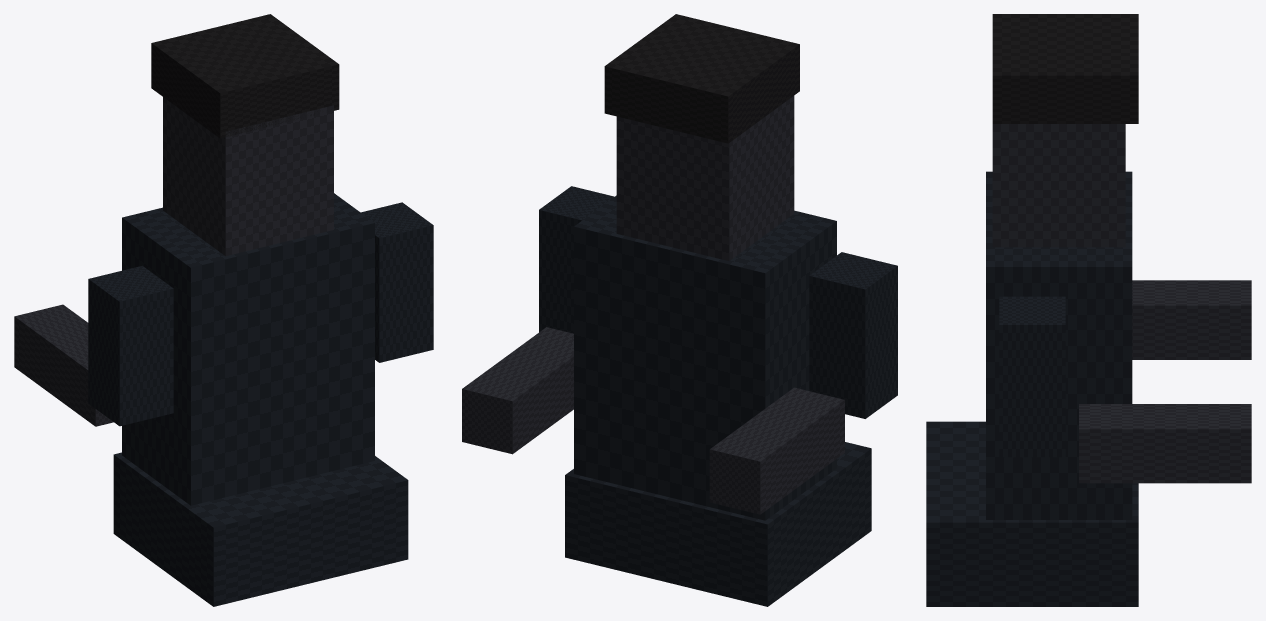
The model's file is worker_seated_b.glb.
The picture shows the model from 3 angles, left to right: view 1: azimuth 30°, elevation 25°; view 2: azimuth 150°, elevation 25°; view 3: azimuth 270°, elevation 25°; orthographic projection. The views are drawn at different scales.
Parts seen in each view (by area): view 1: worker_seated_b; view 2: worker_seated_b; view 3: worker_seated_b.
Boxes of the visible parts, x1,y1,x2,y2 form: worker_seated_b: (14, 14, 433, 606); worker_seated_b: (462, 14, 897, 606); worker_seated_b: (926, 14, 1251, 606).
Size of the model in its own units: 0.58 by 0.85 by 0.49.
Materials: 1 (1 with a texture image).
